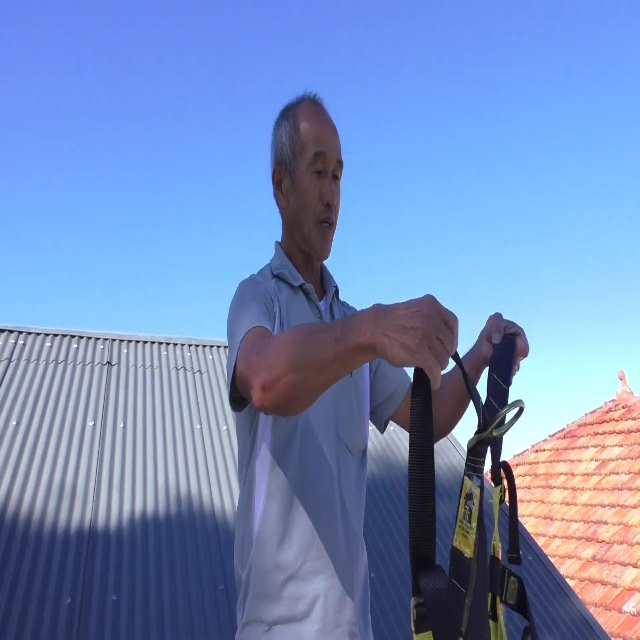Arnes_seguridad: (399, 304, 536, 640)
